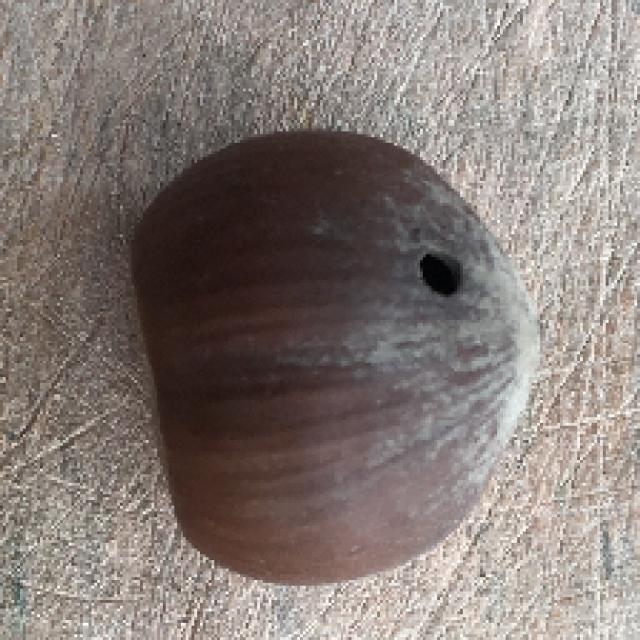damagedHazelnut: (123, 128, 544, 591)
